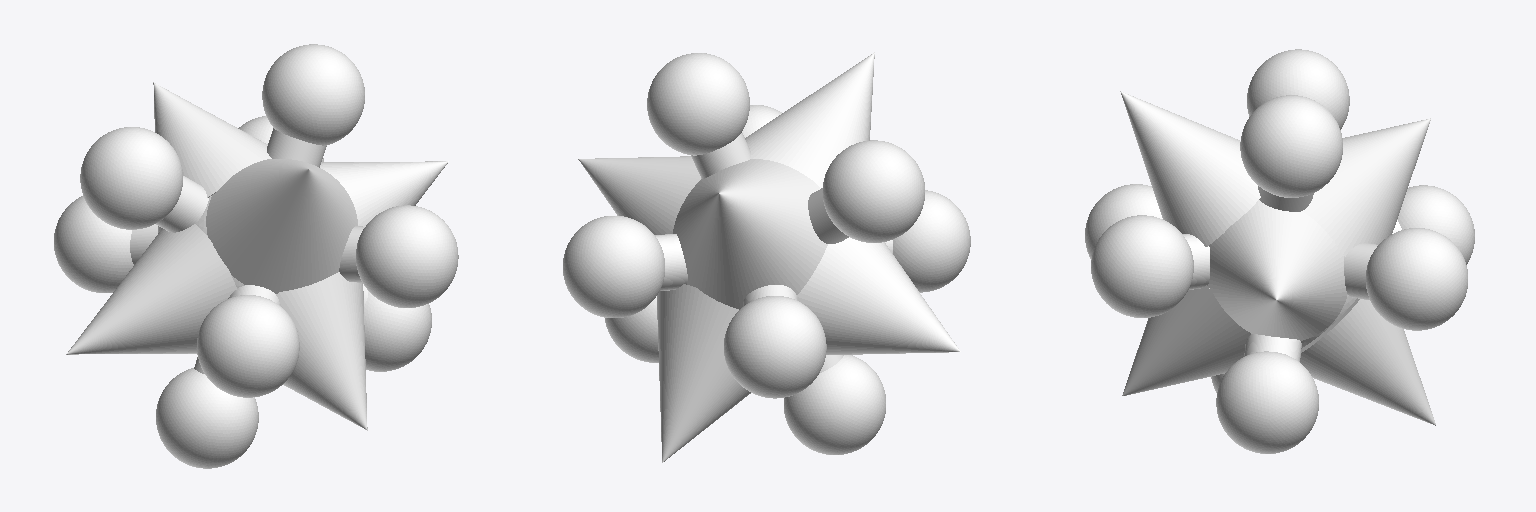
Rendered from matatena_con_esferas1.obj.
3 views of the same model, side by side, from view 1: azimuth 30°, elevation 25°; view 2: azimuth 150°, elevation 25°; view 3: azimuth 270°, elevation 25° (orthographic).
Parts seen in each view (by area): view 1: Object.19, Object.15, Object.13, Object.1, Object.8, Object.10, Object.5, Object.4, Object.16, Object.11, Object.17, Object.7 (+4 smaller); view 2: Object.16, Object.15, Object.18, Object.11, Object.8, Object.2, Object.19, Object.5, Object.4, Object.17, Object.1, Object.7 (+5 smaller); view 3: Object.17, Object.19, Object.16, Object.18, Object.5, Object.10, Object.7, Object.2, Object.13, Object.8, Object.11, Object.1 (+4 smaller).
Boxes of the visible parts, x1=… form: Object.19: x1=206, y1=159, x2=357, y2=293; Object.15: x1=66, y1=224, x2=236, y2=354; Object.13: x1=276, y1=272, x2=367, y2=430; Object.1: x1=197, y1=295, x2=299, y2=397; Object.8: x1=80, y1=127, x2=182, y2=229; Object.10: x1=356, y1=205, x2=458, y2=307; Object.5: x1=262, y1=44, x2=364, y2=145; Object.4: x1=156, y1=368, x2=258, y2=468; Object.16: x1=153, y1=82, x2=271, y2=232; Object.11: x1=54, y1=196, x2=133, y2=292; Object.17: x1=320, y1=161, x2=448, y2=226; Object.7: x1=364, y1=291, x2=431, y2=371; Object.16: x1=673, y1=159, x2=827, y2=309; Object.15: x1=797, y1=237, x2=960, y2=354; Object.18: x1=657, y1=284, x2=750, y2=462; Object.11: x1=724, y1=296, x2=826, y2=398; Object.8: x1=822, y1=140, x2=924, y2=242; Object.2: x1=563, y1=216, x2=664, y2=317; Object.19: x1=745, y1=52, x2=874, y2=188; Object.5: x1=647, y1=53, x2=749, y2=155; Object.4: x1=784, y1=355, x2=885, y2=454; Object.17: x1=578, y1=156, x2=700, y2=234; Object.1: x1=893, y1=190, x2=970, y2=292; Object.7: x1=605, y1=296, x2=658, y2=362; Object.17: x1=1208, y1=200, x2=1347, y2=340; Object.19: x1=1120, y1=91, x2=1260, y2=246; Object.16: x1=1303, y1=118, x2=1430, y2=256; Object.18: x1=1300, y1=298, x2=1435, y2=425; Object.5: x1=1240, y1=95, x2=1342, y2=197; Object.10: x1=1091, y1=215, x2=1193, y2=317; Object.7: x1=1216, y1=351, x2=1318, y2=453; Object.2: x1=1366, y1=228, x2=1467, y2=330; Object.13: x1=1122, y1=285, x2=1250, y2=395; Object.8: x1=1247, y1=49, x2=1349, y2=129; Object.11: x1=1397, y1=185, x2=1474, y2=264; Object.1: x1=1085, y1=184, x2=1162, y2=259.
Bounding box in the file's own units: 70.38 × 65.66 × 62.05.